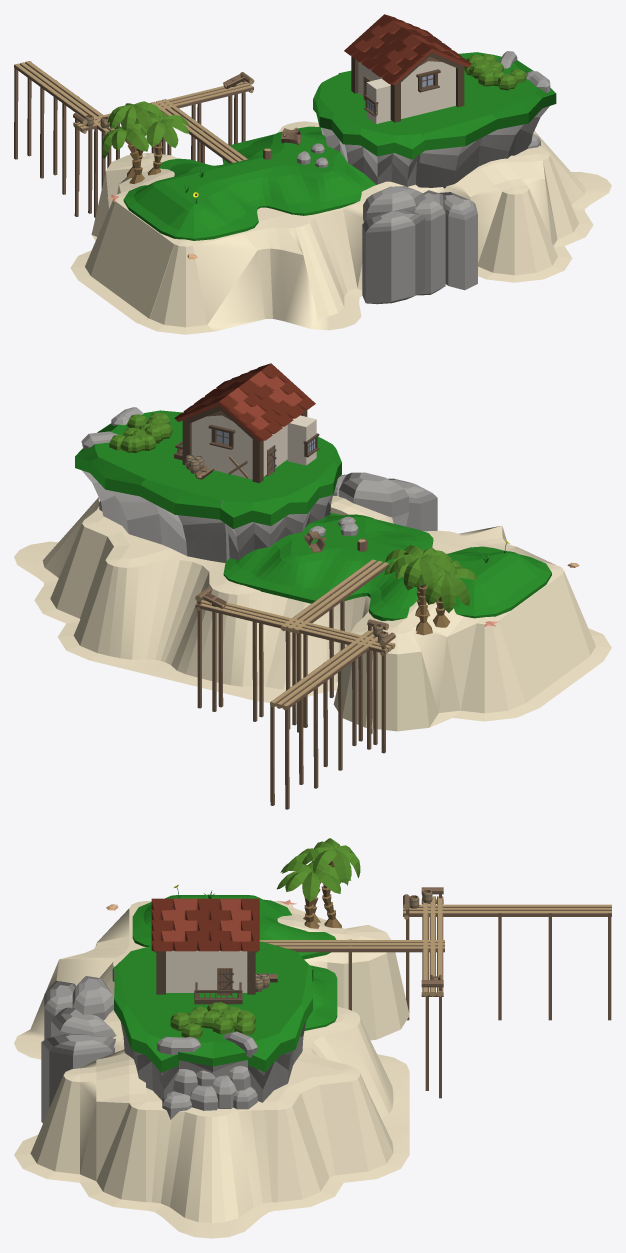
Rendered from island_base_3.obj.
The picture shows the model from 3 angles, top to bottom: view 1: azimuth 30°, elevation 25°; view 2: azimuth 150°, elevation 25°; view 3: azimuth 270°, elevation 25°; orthographic projection. The views are drawn at different scales.
Parts seen in each view (by area): view 1: island_base_3; view 2: island_base_3; view 3: island_base_3.
Part boxes in pixels (left/top/right/bottom): island_base_3: left=14, top=14, right=611, bottom=334; island_base_3: left=14, top=363, right=611, bottom=809; island_base_3: left=14, top=838, right=611, bottom=1238.
Bounding box in the file's own units: 30 × 11.96 × 27.2.
